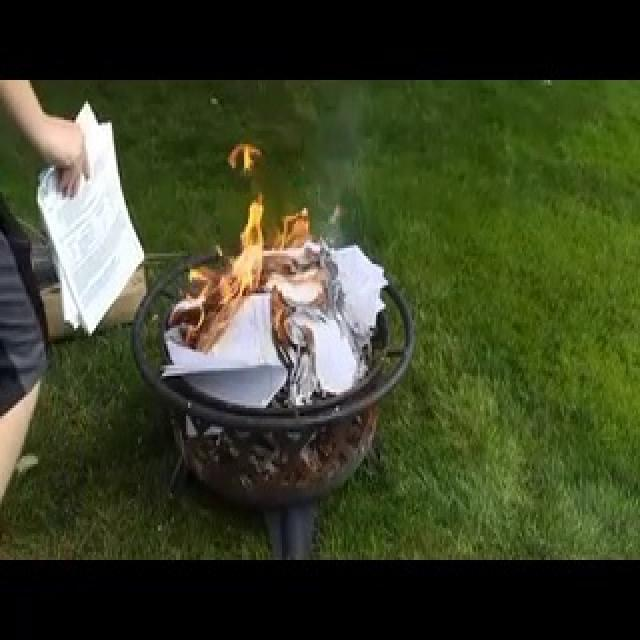fire: (162, 158, 306, 356)
